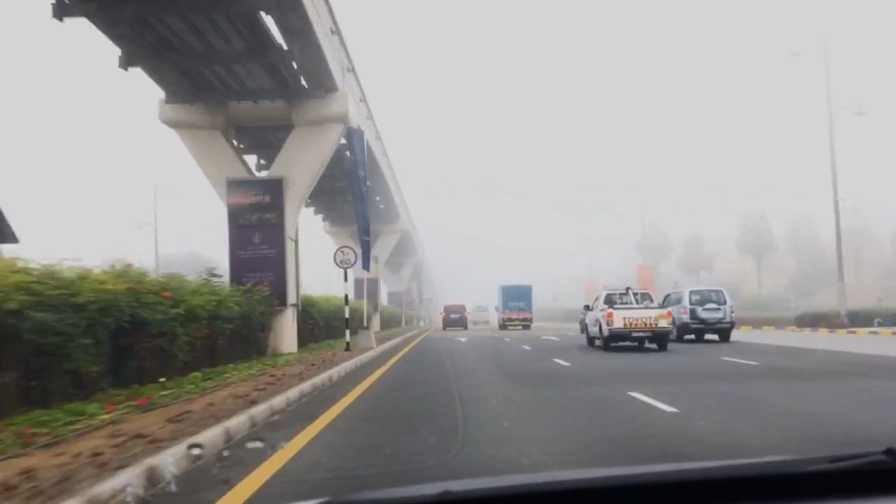bus: (493, 284, 535, 332), (471, 304, 490, 325)
car: (578, 285, 675, 353), (653, 285, 735, 346), (577, 294, 658, 338), (440, 303, 469, 332)
